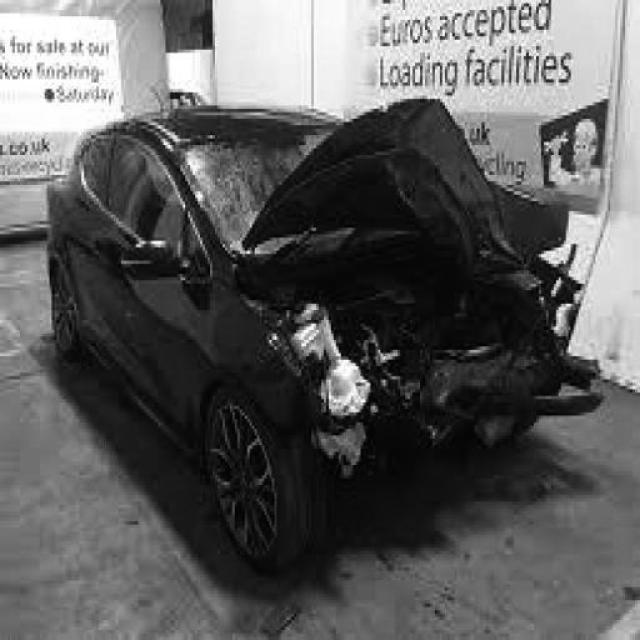car damage: (186, 101, 604, 457)
